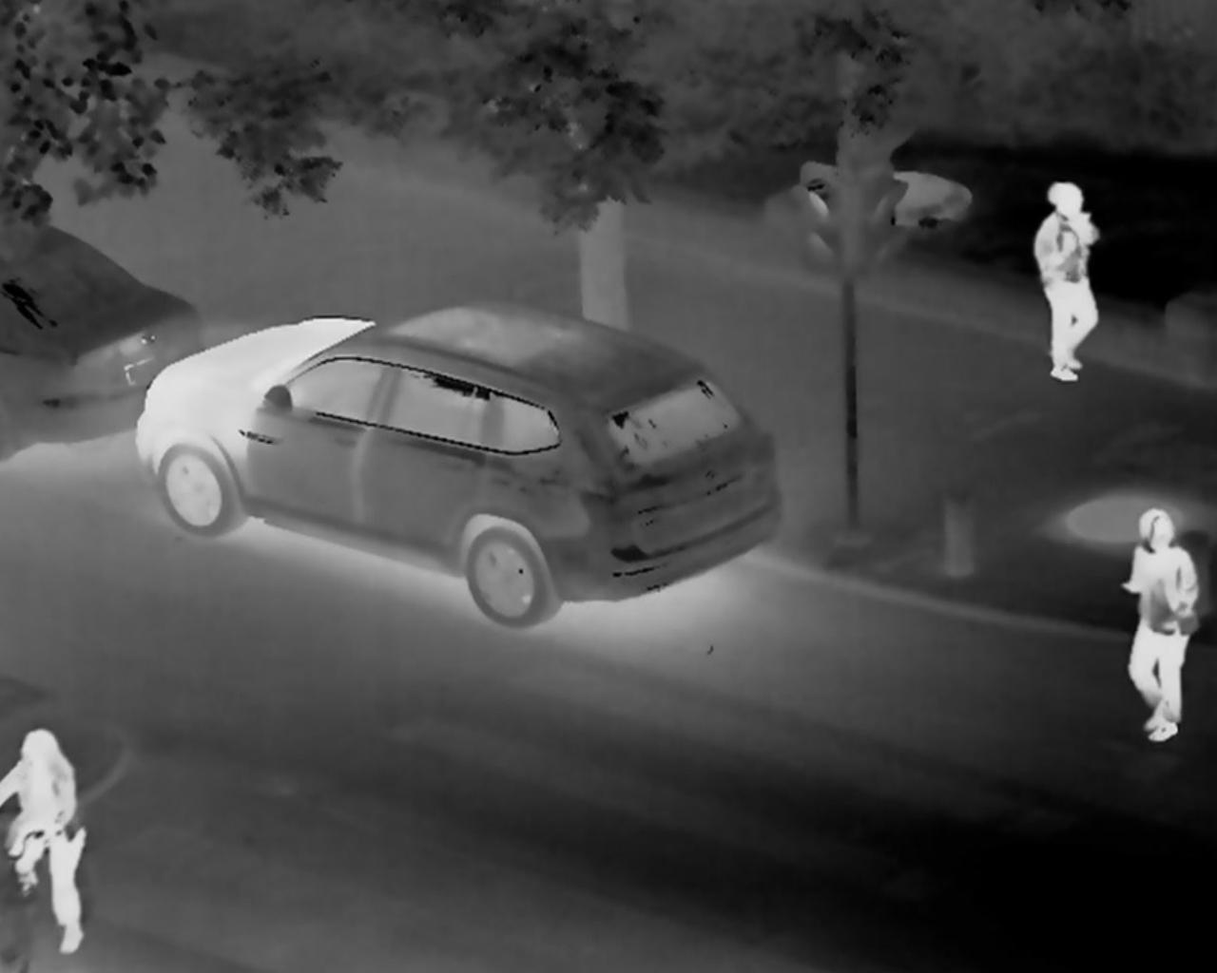person: (2, 728, 98, 957), (1112, 502, 1202, 746), (1030, 180, 1104, 388)
